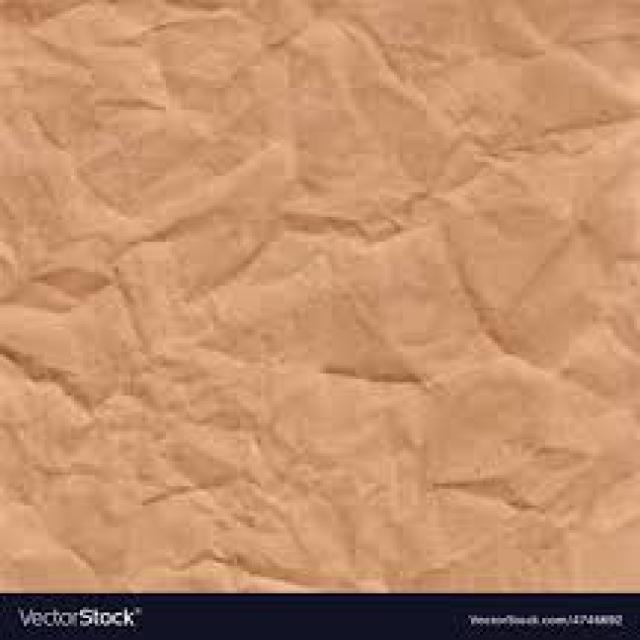paper: (0, 0, 637, 588)
